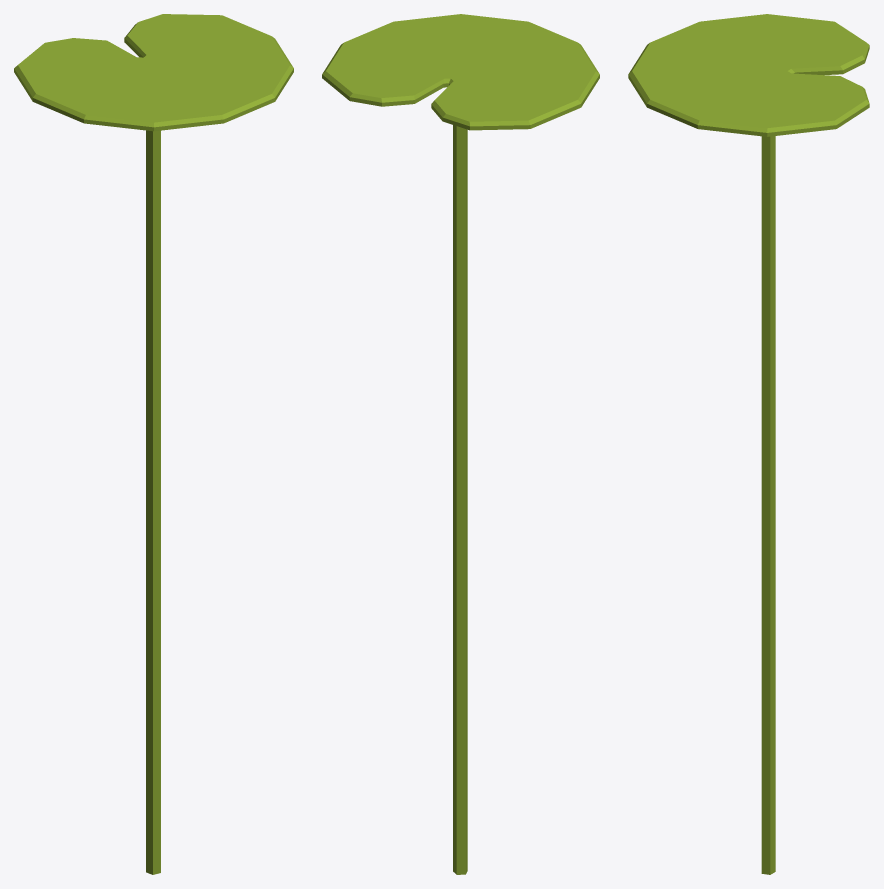
The model's file is NHP_LilyPad_LP_A1_02.fbx.
3 views of the same model, side by side, from view 1: azimuth 30°, elevation 25°; view 2: azimuth 150°, elevation 25°; view 3: azimuth 270°, elevation 25° (orthographic).
Visible parts, largest first — view 1: NHP_LilyPad_LP_A1_02_LOD0; view 2: NHP_LilyPad_LP_A1_02_LOD0; view 3: NHP_LilyPad_LP_A1_02_LOD0.
Part boxes in pixels (x1,y1,x2,y2): NHP_LilyPad_LP_A1_02_LOD0: [14, 14, 293, 874]; NHP_LilyPad_LP_A1_02_LOD0: [322, 14, 599, 874]; NHP_LilyPad_LP_A1_02_LOD0: [628, 14, 869, 874].
Size of what is drawn, in the model's own units: 0.6329 by 2.01 by 0.5497.
